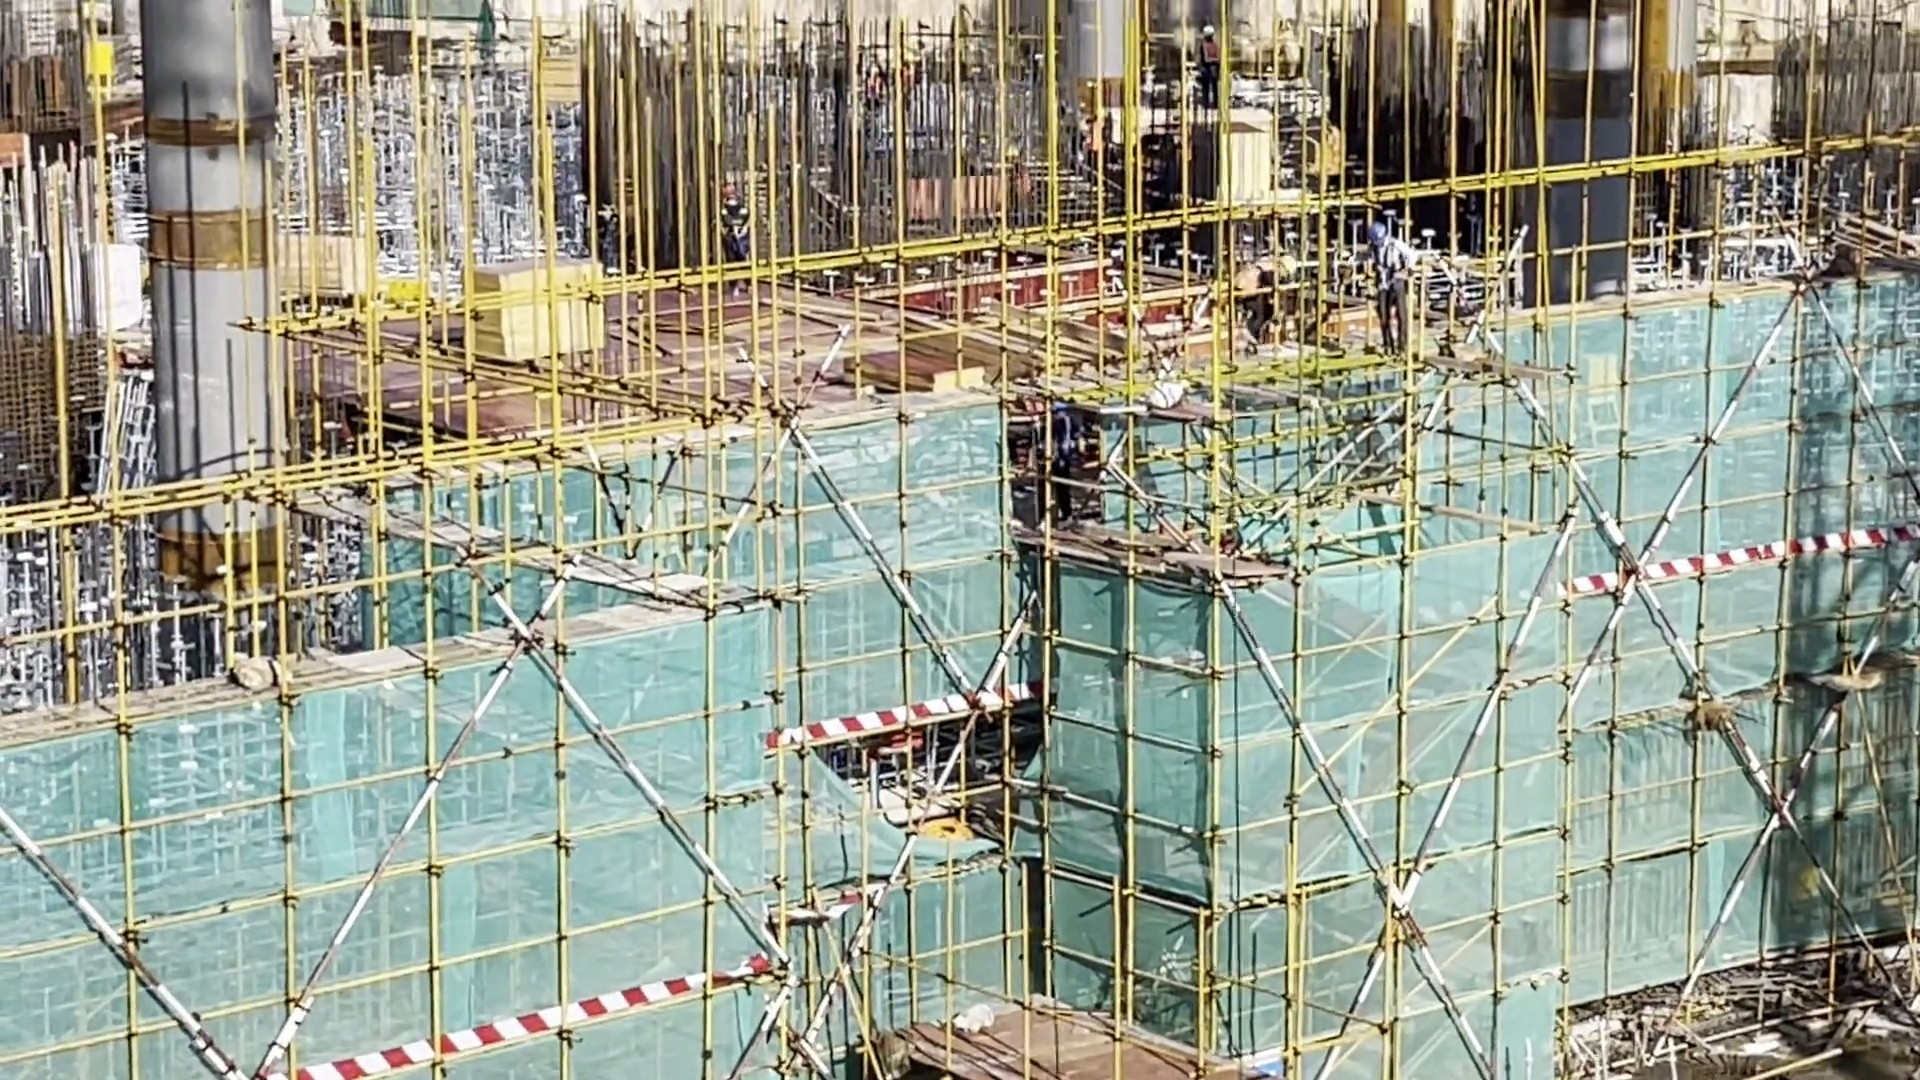helmet: (1271, 241, 1297, 272), (714, 180, 746, 200), (1369, 221, 1386, 246)
person: (1218, 229, 1298, 342), (1360, 228, 1411, 357), (704, 181, 754, 281)
vest: (1373, 247, 1410, 288), (717, 206, 755, 244), (1236, 255, 1273, 292)
